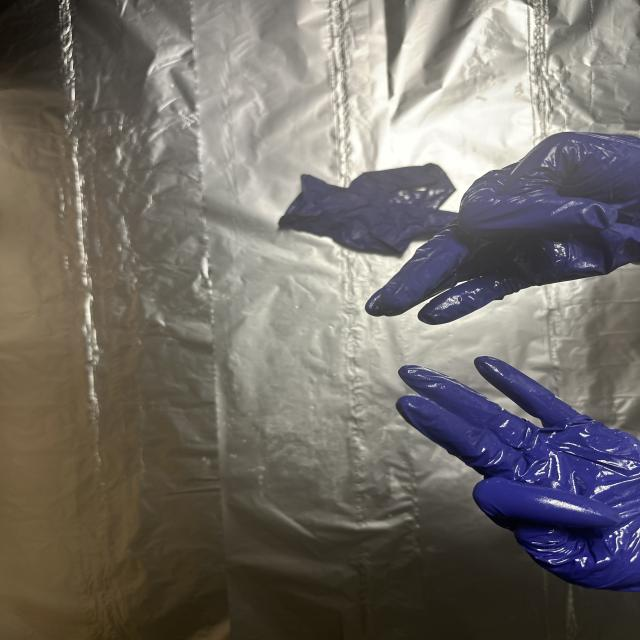gloves_contaminated: (396, 356, 640, 592), (366, 132, 640, 325)
